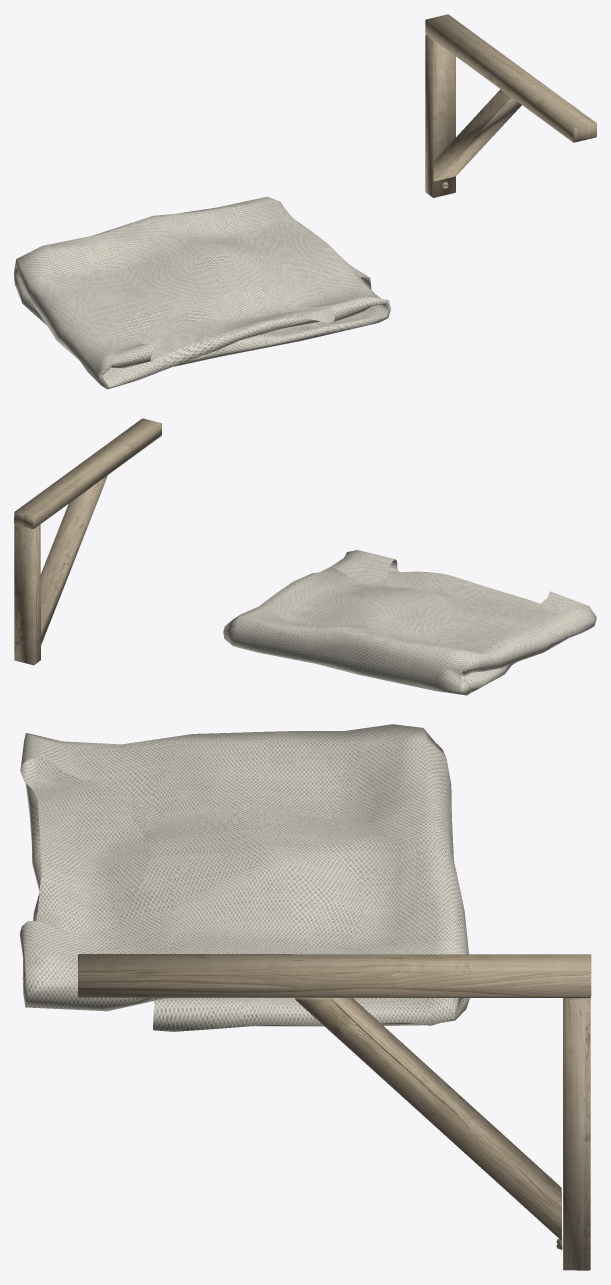
File: rod-cloth033.glb
3 renders of one model, top to bottom at view 1: azimuth 30°, elevation 25°; view 2: azimuth 150°, elevation 25°; view 3: azimuth 270°, elevation 25°, orthographic. The views are drawn at different scales.
Visible parts, largest first — view 1: cloth033.001, wood_hanger9.001; view 2: cloth033.001, wood_hanger9.001; view 3: cloth033.001, wood_hanger9.001.
Part boxes in pixels (box(x1,y1,x2,y2)): cloth033.001: box(14, 196, 390, 389); wood_hanger9.001: box(425, 14, 596, 197); cloth033.001: box(223, 550, 596, 695); wood_hanger9.001: box(14, 418, 161, 665); cloth033.001: box(19, 724, 469, 1031); wood_hanger9.001: box(78, 954, 591, 1270).
Size of the model in its own units: 0.7428 by 0.2394 by 0.4166.
2 materials, 2 textured.
